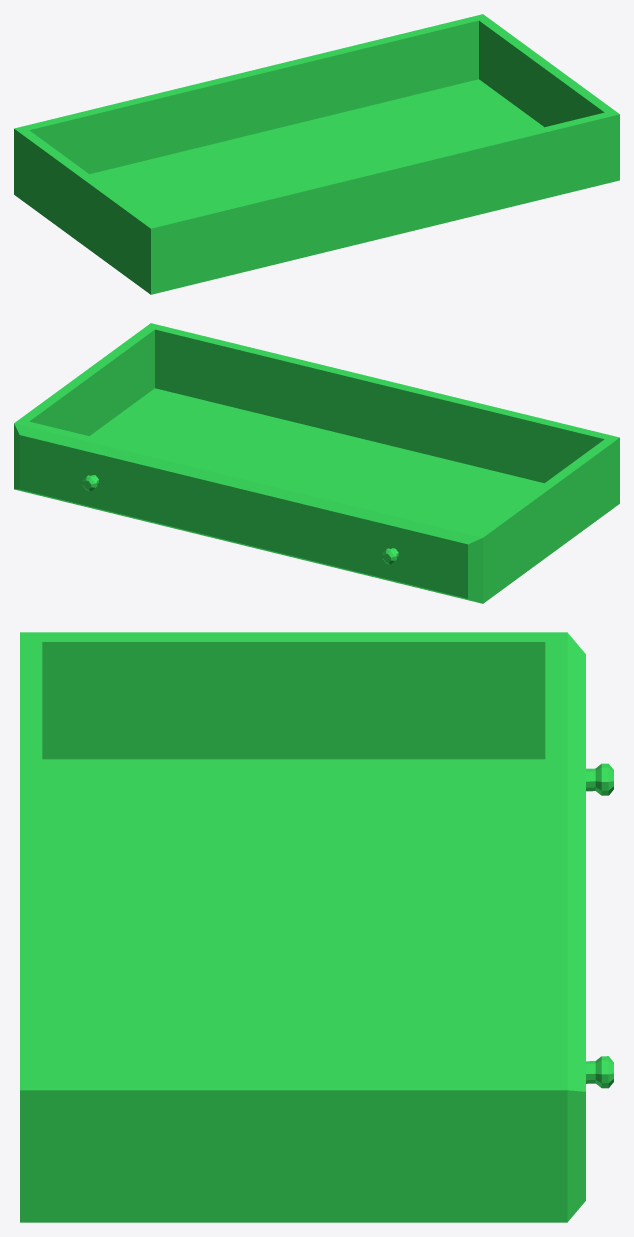
File: Dresser_Draw.fbx
The picture shows the model from 3 angles, top to bottom: view 1: azimuth 30°, elevation 25°; view 2: azimuth 150°, elevation 25°; view 3: azimuth 270°, elevation 25°; orthographic projection. The views are drawn at different scales.
Parts seen in each view (by area): view 1: Cube.074; view 2: Cube.074; view 3: Cube.074.
Boxes of the visible parts, x1,y1,x2,y2 form: Cube.074: (14,14,619,294); Cube.074: (14,323,619,603); Cube.074: (20,632,613,1222).
Bounding box in the file's own units: 170 × 22.86 × 93.08.
